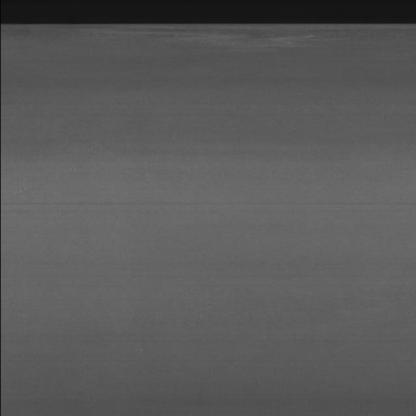silk_spot: (111, 26, 332, 48)
